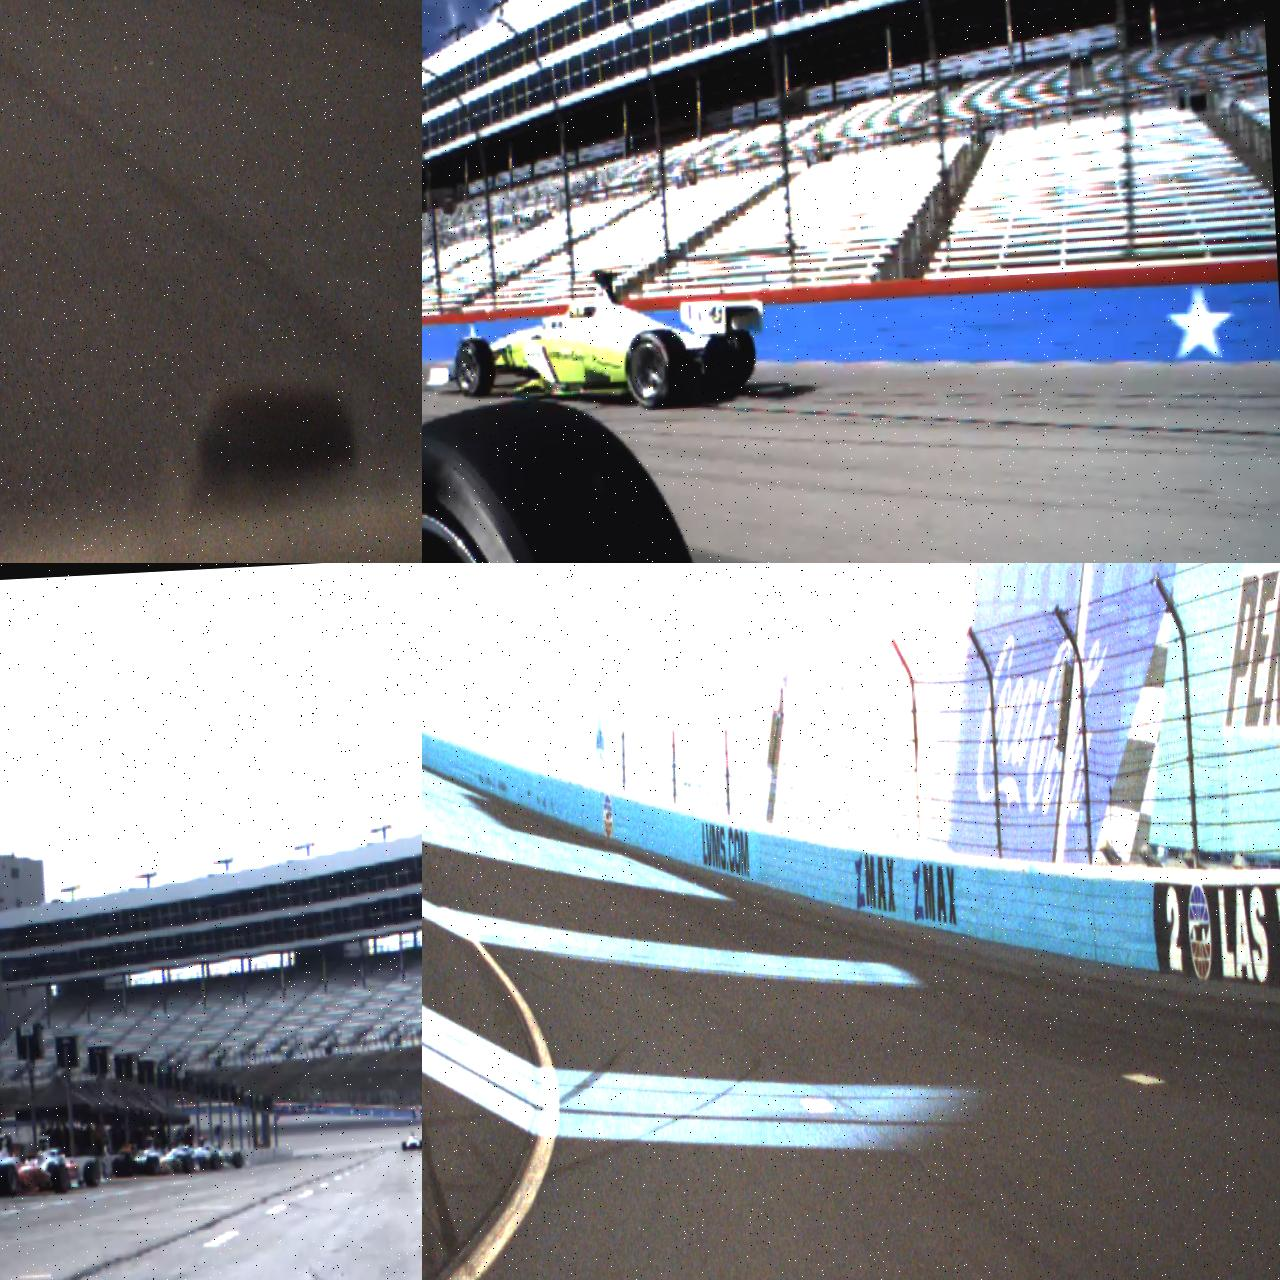AV: (422, 261, 768, 421), (0, 1131, 71, 1200), (110, 1134, 192, 1178), (400, 1130, 422, 1151)
Wheel: (422, 393, 728, 563), (623, 328, 689, 410), (454, 336, 496, 398), (720, 328, 758, 388), (50, 1163, 70, 1194), (0, 1163, 17, 1197), (83, 1160, 100, 1188), (146, 1155, 160, 1175), (112, 1156, 125, 1176), (232, 1151, 244, 1169), (182, 1154, 192, 1174), (210, 1152, 221, 1170), (402, 1141, 406, 1151), (419, 1139, 422, 1148)
